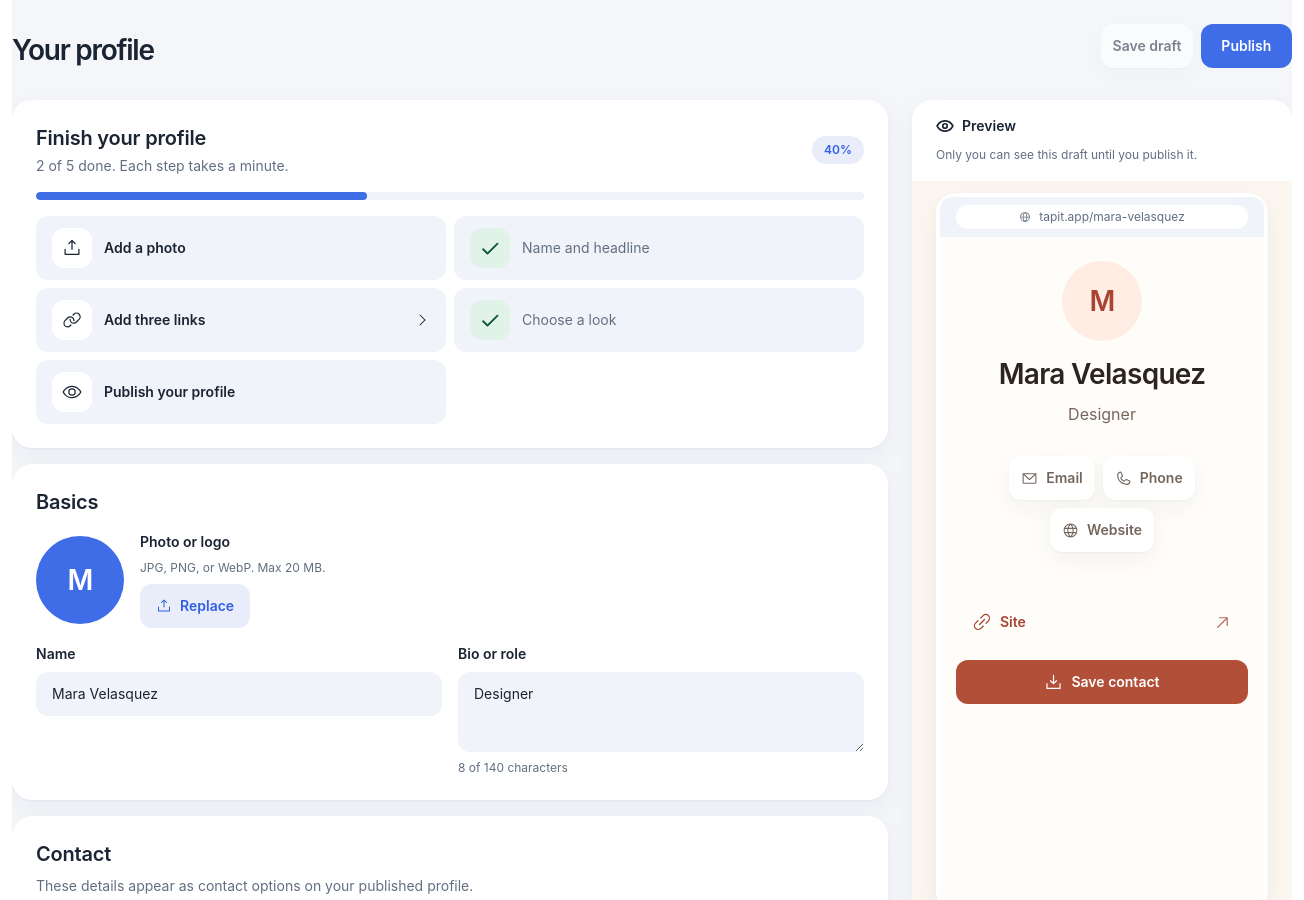
ProfileEditor workspace boundaries › reports a pending save when navigation is requested during a live profile save
The image size is (1304, 900).
Step 1. Replace the text in the text box labelled "Bio or role" with "Updated bio" → coordinates (661, 712), box x1=458 y1=672 x2=864 y2=752
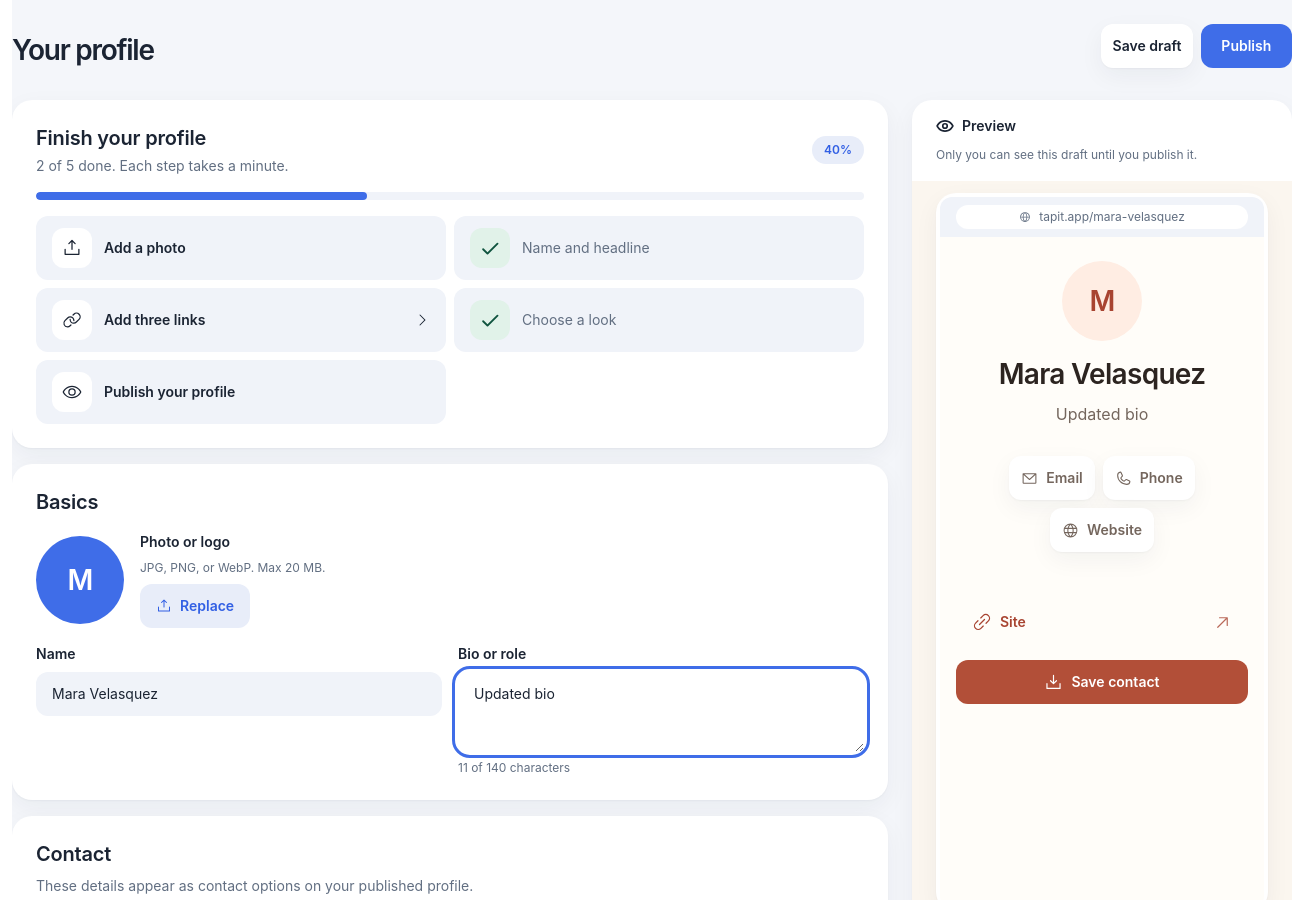
Step 2. Click the button "Save draft" → coordinates (1147, 46), box x1=1101 y1=24 x2=1193 y2=68
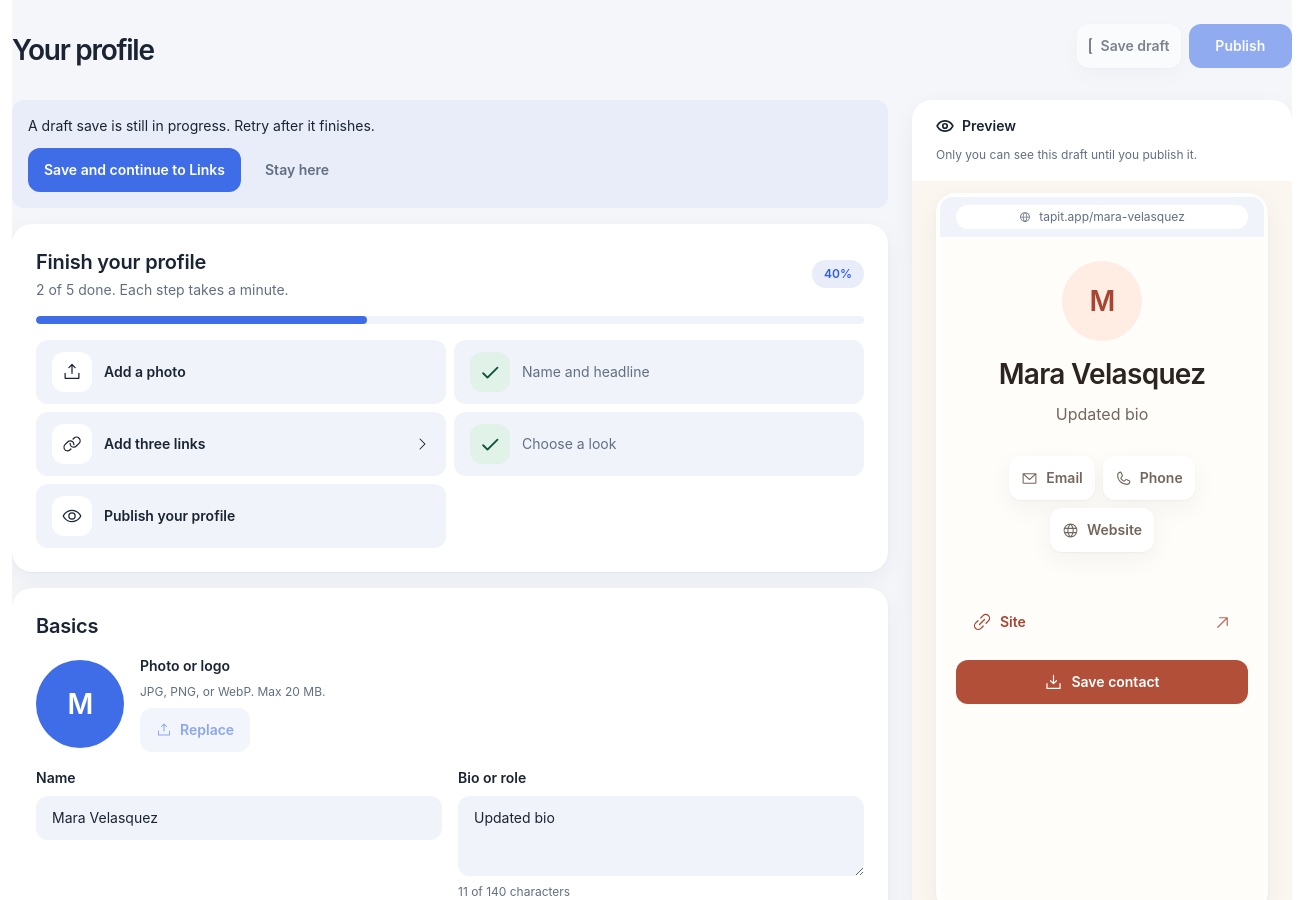
expect the button "Save draft" is disabled: met, box x1=1077 y1=24 x2=1181 y2=68
